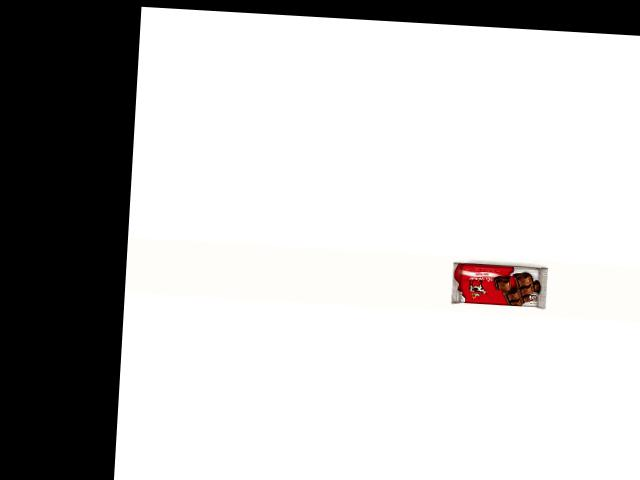chocolate: (448, 254, 550, 312)
